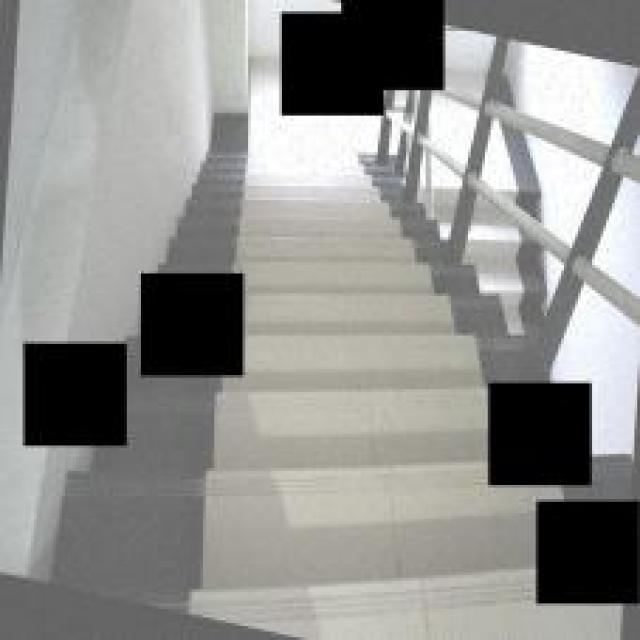downstair: (262, 260, 434, 620)
